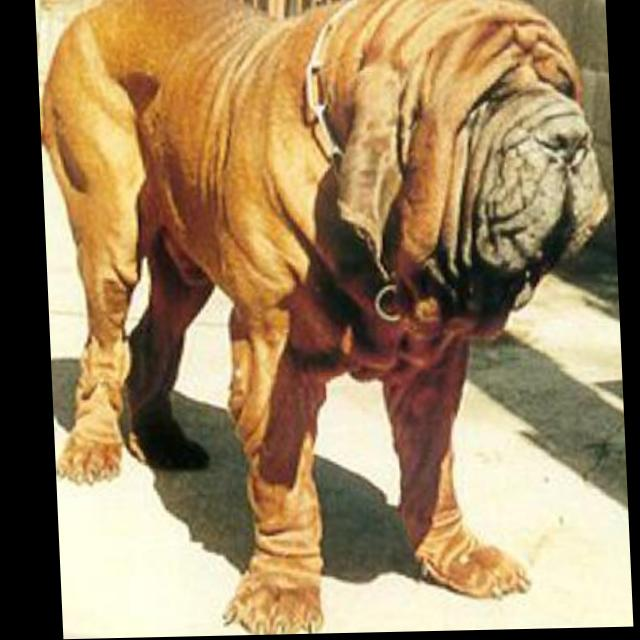bullmastiff: (36, 1, 623, 640)
